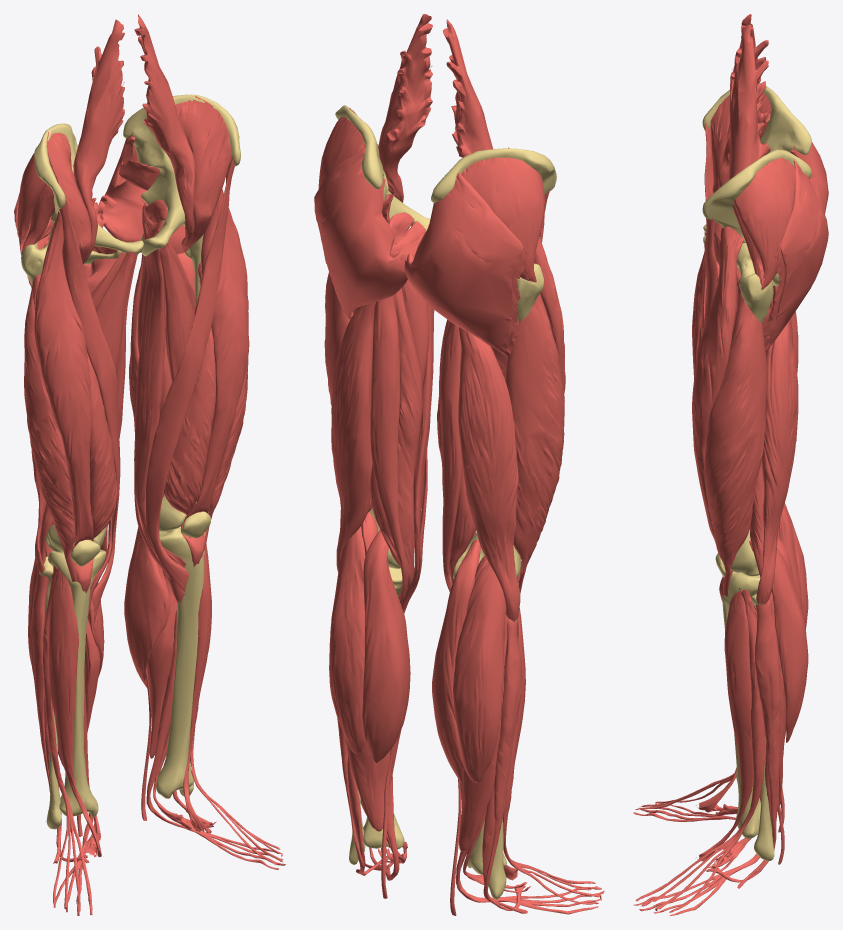
3 views of the same model, side by side, from view 1: azimuth 30°, elevation 25°; view 2: azimuth 150°, elevation 25°; view 3: azimuth 270°, elevation 25° (orthographic). The views are drawn at different scales.
Parts seen in each view (by area): view 1: knee:quadriceps:isa:FJ1433, knee:quadriceps:isa:FJ1433M, knee:sartorius:isa:FJ1434M, knee:quadriceps:isa:FJ1442, knee:tibia:isa:FJ3282, knee:gracilis:isa:FJ1421M, hip-pelvis:psoas-major:isa:FJ1431, knee:sartorius:isa:FJ1434, ankle-foot:tibialis-anterior:isa:FJ1439, knee:quadriceps:isa:FJ1443M, hip-pelvis:iliacus:isa:FJ1422M, hip-pelvis:psoas-major:isa:FJ1431M (+32 smaller); view 2: hip-pelvis:gluteus-maximus:isa:FJ1418, knee:biceps-femoris:isa:FJ1395, knee:quadriceps:isa:FJ1442, hip-pelvis:gluteus-maximus:isa:FJ1418M, ankle-foot:gastrocnemius:isa:FJ1394, ankle-foot:gastrocnemius:isa:FJ1397M, knee:biceps-femoris:isa:FJ1395M, knee:semitendinosus:isa:FJ1436M, ankle-foot:gastrocnemius:isa:FJ1394M, knee:semimembranosus:isa:FJ1435M, hip-pelvis:gluteus-medius:isa:FJ1419, hip-pelvis:psoas-major:isa:FJ1431M (+28 smaller); view 3: knee:quadriceps:isa:FJ1442M, knee:biceps-femoris:isa:FJ1395M, knee:quadriceps:isa:FJ1433M, hip-pelvis:gluteus-maximus:isa:FJ1418M, hip-pelvis:gluteus-medius:isa:FJ1419M, ankle-foot:tibialis-anterior:isa:FJ1439M, ankle-foot:gastrocnemius:isa:FJ1394M, hip-pelvis:psoas-major:isa:FJ1431M, ankle-foot:fibularis-longus:isa:FJ1410M, ankle-foot:extensor-digitorum-longus:isa:FJ1406M, hip-pelvis:hip-bone:isa:FJ3288, hip-pelvis:hip-bone:isa:FJ3152 (+19 smaller).
Part boxes in pixels (left/top/right/bottom): knee:quadriceps:isa:FJ1433: left=34, top=211, right=94, bottom=593; knee:quadriceps:isa:FJ1433M: left=181, top=189, right=249, bottom=566; knee:sartorius:isa:FJ1434M: left=145, top=156, right=234, bottom=601; knee:quadriceps:isa:FJ1442: left=24, top=273, right=77, bottom=581; knee:tibia:isa:FJ3282: left=156, top=526, right=205, bottom=798; knee:gracilis:isa:FJ1421M: left=134, top=248, right=185, bottom=567; hip-pelvis:psoas-major:isa:FJ1431: left=73, top=19, right=124, bottom=264; knee:sartorius:isa:FJ1434: left=58, top=199, right=120, bottom=622; ankle-foot:tibialis-anterior:isa:FJ1439: left=49, top=570, right=101, bottom=856; knee:quadriceps:isa:FJ1443M: left=164, top=262, right=216, bottom=538; hip-pelvis:iliacus:isa:FJ1422M: left=175, top=96, right=231, bottom=251; hip-pelvis:psoas-major:isa:FJ1431M: left=134, top=14, right=195, bottom=247; hip-pelvis:gluteus-maximus:isa:FJ1418: left=404, top=172, right=527, bottom=357; knee:biceps-femoris:isa:FJ1395: left=458, top=327, right=520, bottom=621; knee:quadriceps:isa:FJ1442: left=505, top=294, right=564, bottom=593; hip-pelvis:gluteus-maximus:isa:FJ1418M: left=314, top=149, right=407, bottom=319; ankle-foot:gastrocnemius:isa:FJ1394: left=453, top=563, right=506, bottom=782; ankle-foot:gastrocnemius:isa:FJ1397M: left=362, top=530, right=410, bottom=762; knee:biceps-femoris:isa:FJ1395M: left=331, top=302, right=375, bottom=572; knee:semitendinosus:isa:FJ1436M: left=370, top=295, right=408, bottom=603; ankle-foot:gastrocnemius:isa:FJ1394M: left=329, top=526, right=365, bottom=753; knee:semimembranosus:isa:FJ1435M: left=370, top=288, right=422, bottom=596; hip-pelvis:gluteus-medius:isa:FJ1419: left=461, top=157, right=544, bottom=282; hip-pelvis:psoas-major:isa:FJ1431M: left=378, top=14, right=432, bottom=202; knee:quadriceps:isa:FJ1442M: left=704, top=280, right=767, bottom=596; knee:biceps-femoris:isa:FJ1395M: left=756, top=286, right=798, bottom=605; knee:quadriceps:isa:FJ1433M: left=692, top=226, right=743, bottom=601; hip-pelvis:gluteus-maximus:isa:FJ1418M: left=761, top=160, right=828, bottom=351; hip-pelvis:gluteus-medius:isa:FJ1419M: left=734, top=157, right=794, bottom=290; ankle-foot:tibialis-anterior:isa:FJ1439M: left=695, top=591, right=753, bottom=861; ankle-foot:gastrocnemius:isa:FJ1394M: left=749, top=540, right=808, bottom=742; hip-pelvis:psoas-major:isa:FJ1431M: left=729, top=25, right=770, bottom=179; ankle-foot:fibularis-longus:isa:FJ1410M: left=705, top=598, right=780, bottom=882; ankle-foot:extensor-digitorum-longus:isa:FJ1406M: left=635, top=587, right=765, bottom=912; hip-pelvis:hip-bone:isa:FJ3288: left=702, top=149, right=811, bottom=286; hip-pelvis:hip-bone:isa:FJ3152: left=702, top=83, right=811, bottom=232.
Bounding box in the file's own units: 0.3321 × 1.17 × 0.2463.
